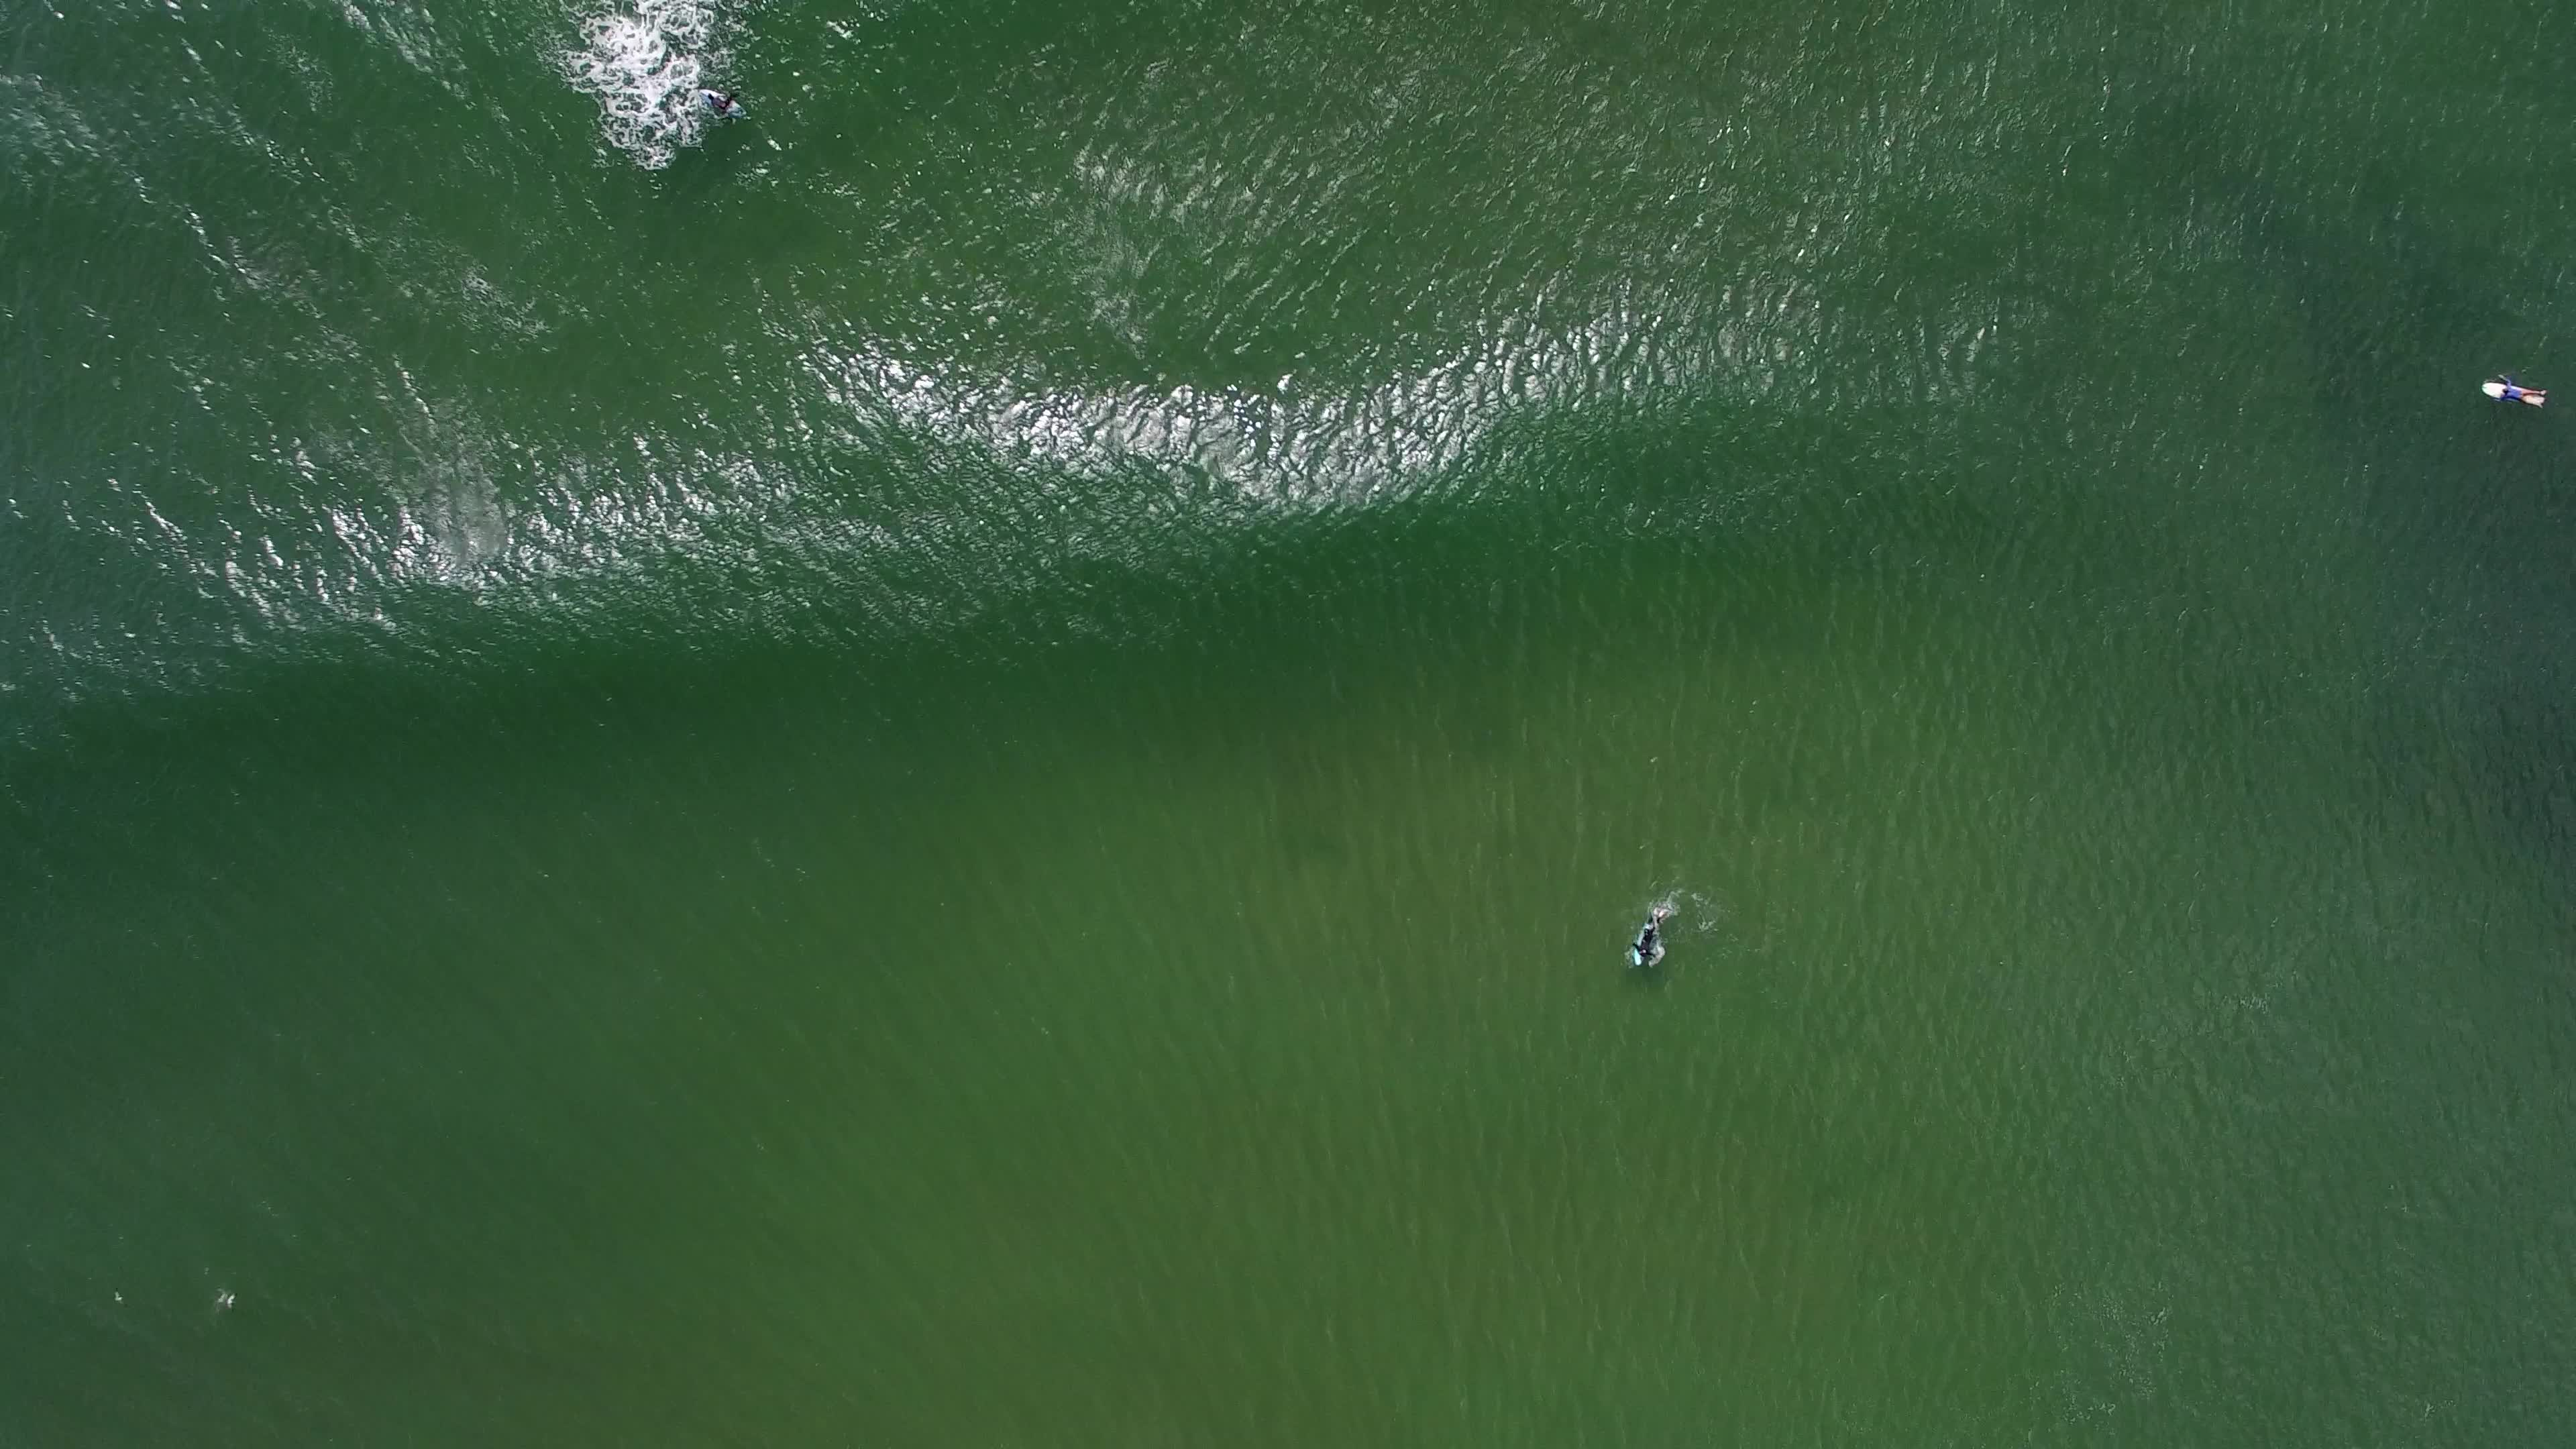surfer: (2477, 364, 2562, 418), (1624, 895, 1677, 975)
